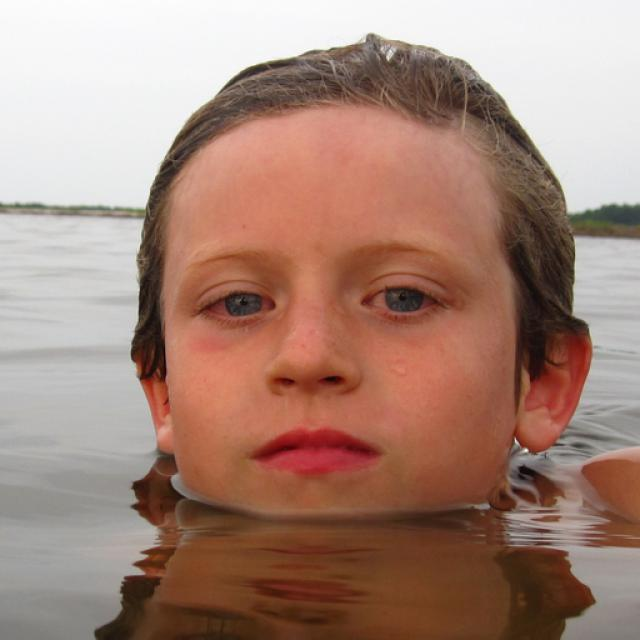neutral: (165, 102, 517, 521)
